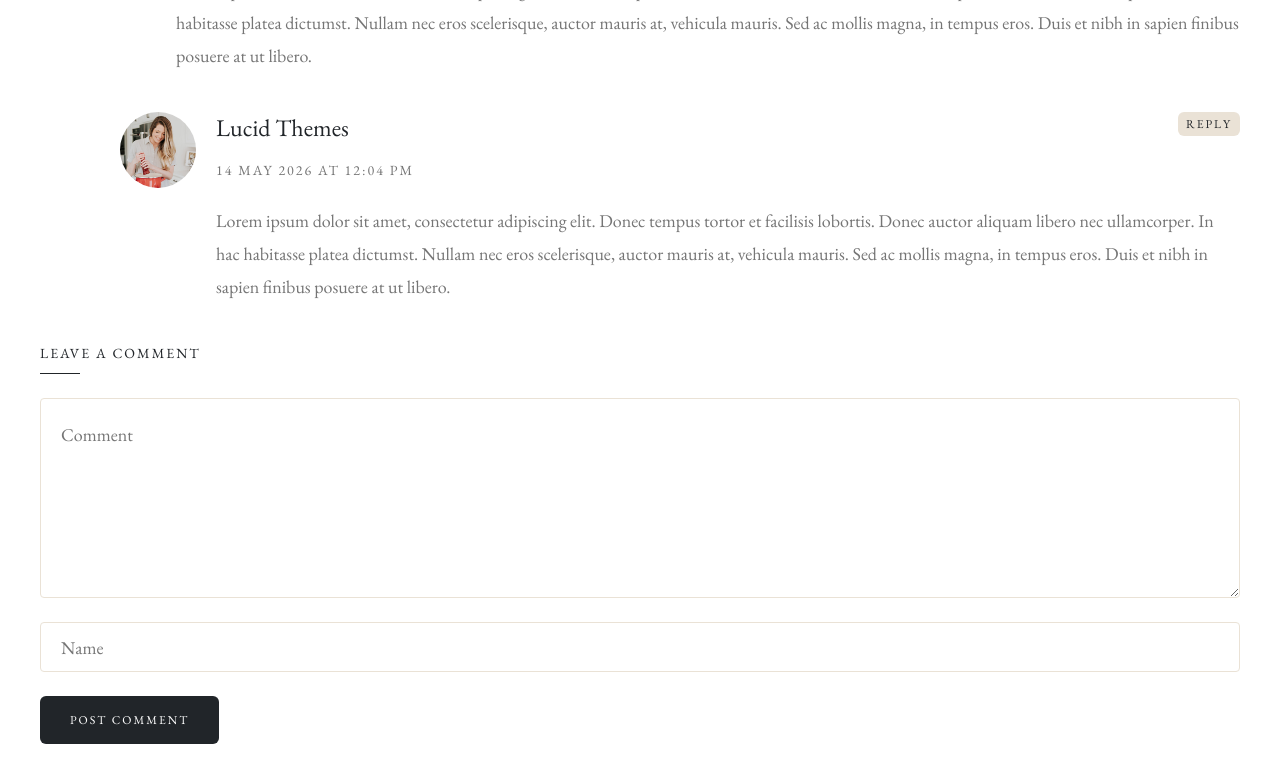
Test: BlogPostComments component › shows form error messages for missing fields
(page scrolled)
Expected: the form named "add comment" is shown, top-left (40, 398), bottom-right (1240, 744)
Click the button "Post comment". click: (130, 720)
box: top-left (40, 696), bottom-right (219, 744)
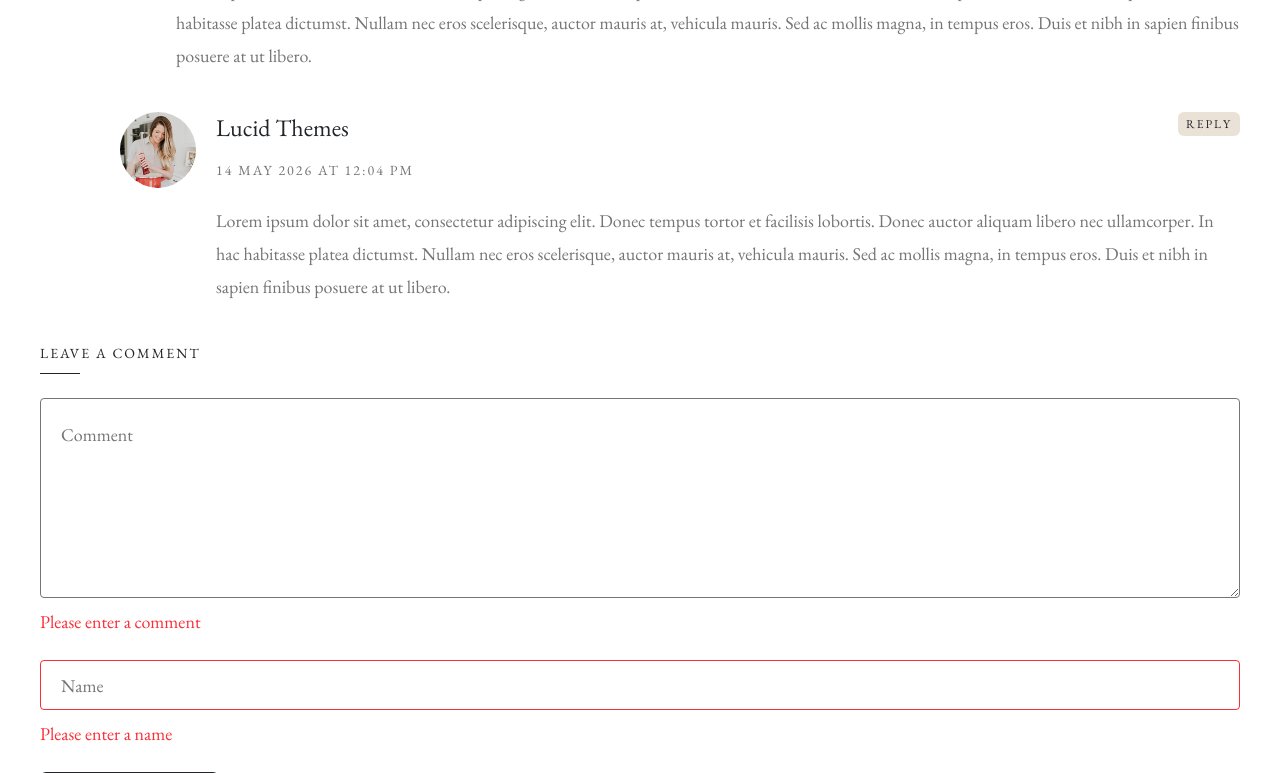
Now the text "Please enter a comment" is shown, box top-left (40, 610), bottom-right (200, 633)
Now the text "Please enter a name" is shown, box top-left (40, 722), bottom-right (172, 745)
